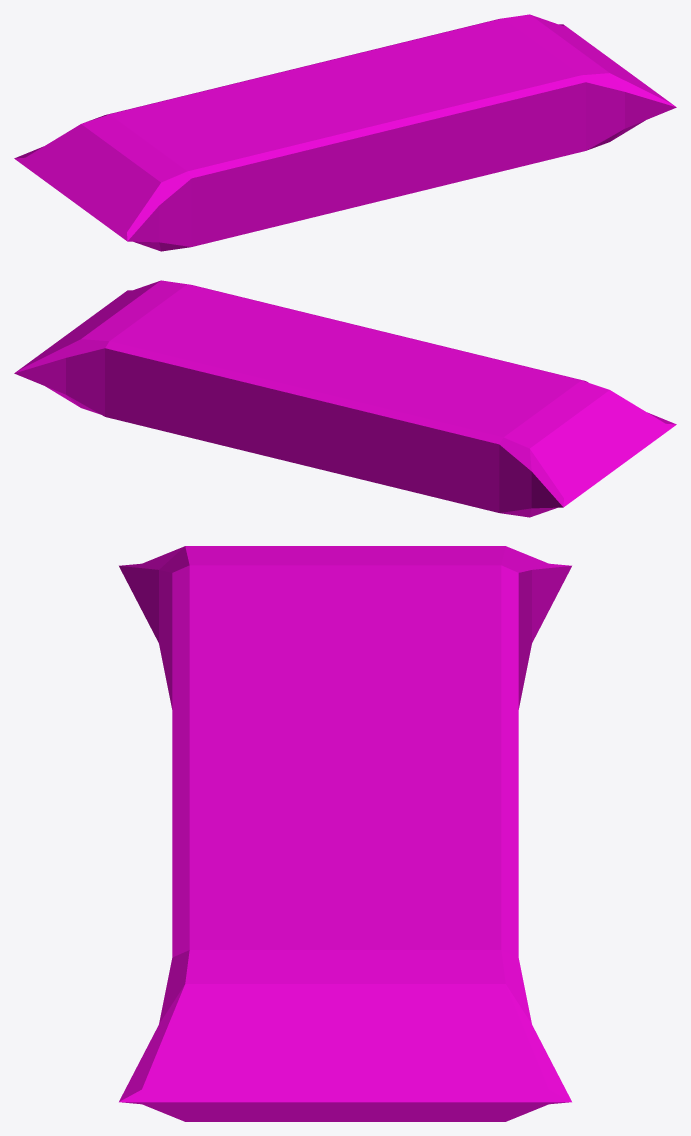
Rendered from Food.glb.
The picture shows the model from 3 angles, top to bottom: view 1: azimuth 30°, elevation 25°; view 2: azimuth 150°, elevation 25°; view 3: azimuth 270°, elevation 25°; orthographic projection. The views are drawn at different scales.
Visible parts, largest first — view 1: Cube; view 2: Cube; view 3: Cube.
Boxes of the visible parts, left/top/right/bottom form: Cube: left=14, top=14, right=676, bottom=251; Cube: left=14, top=280, right=676, bottom=517; Cube: left=119, top=546, right=571, bottom=1121.
Size of the model in its own units: 1.13 by 0.1503 by 0.4047.
